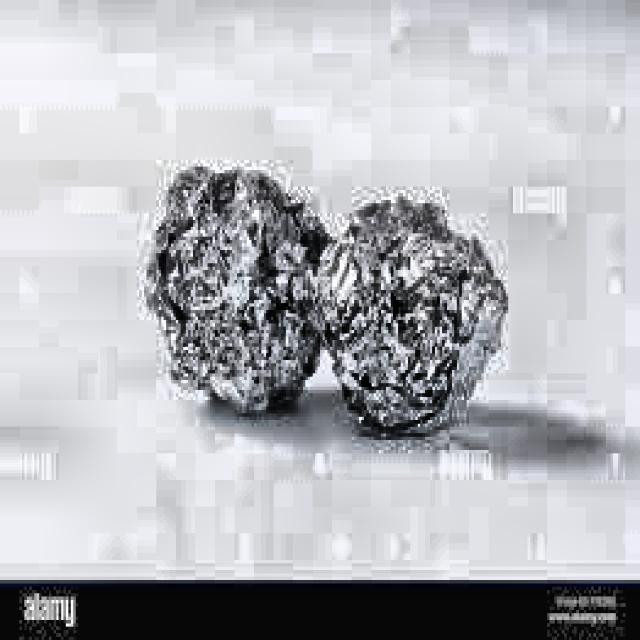Foil: (134, 152, 330, 450)
